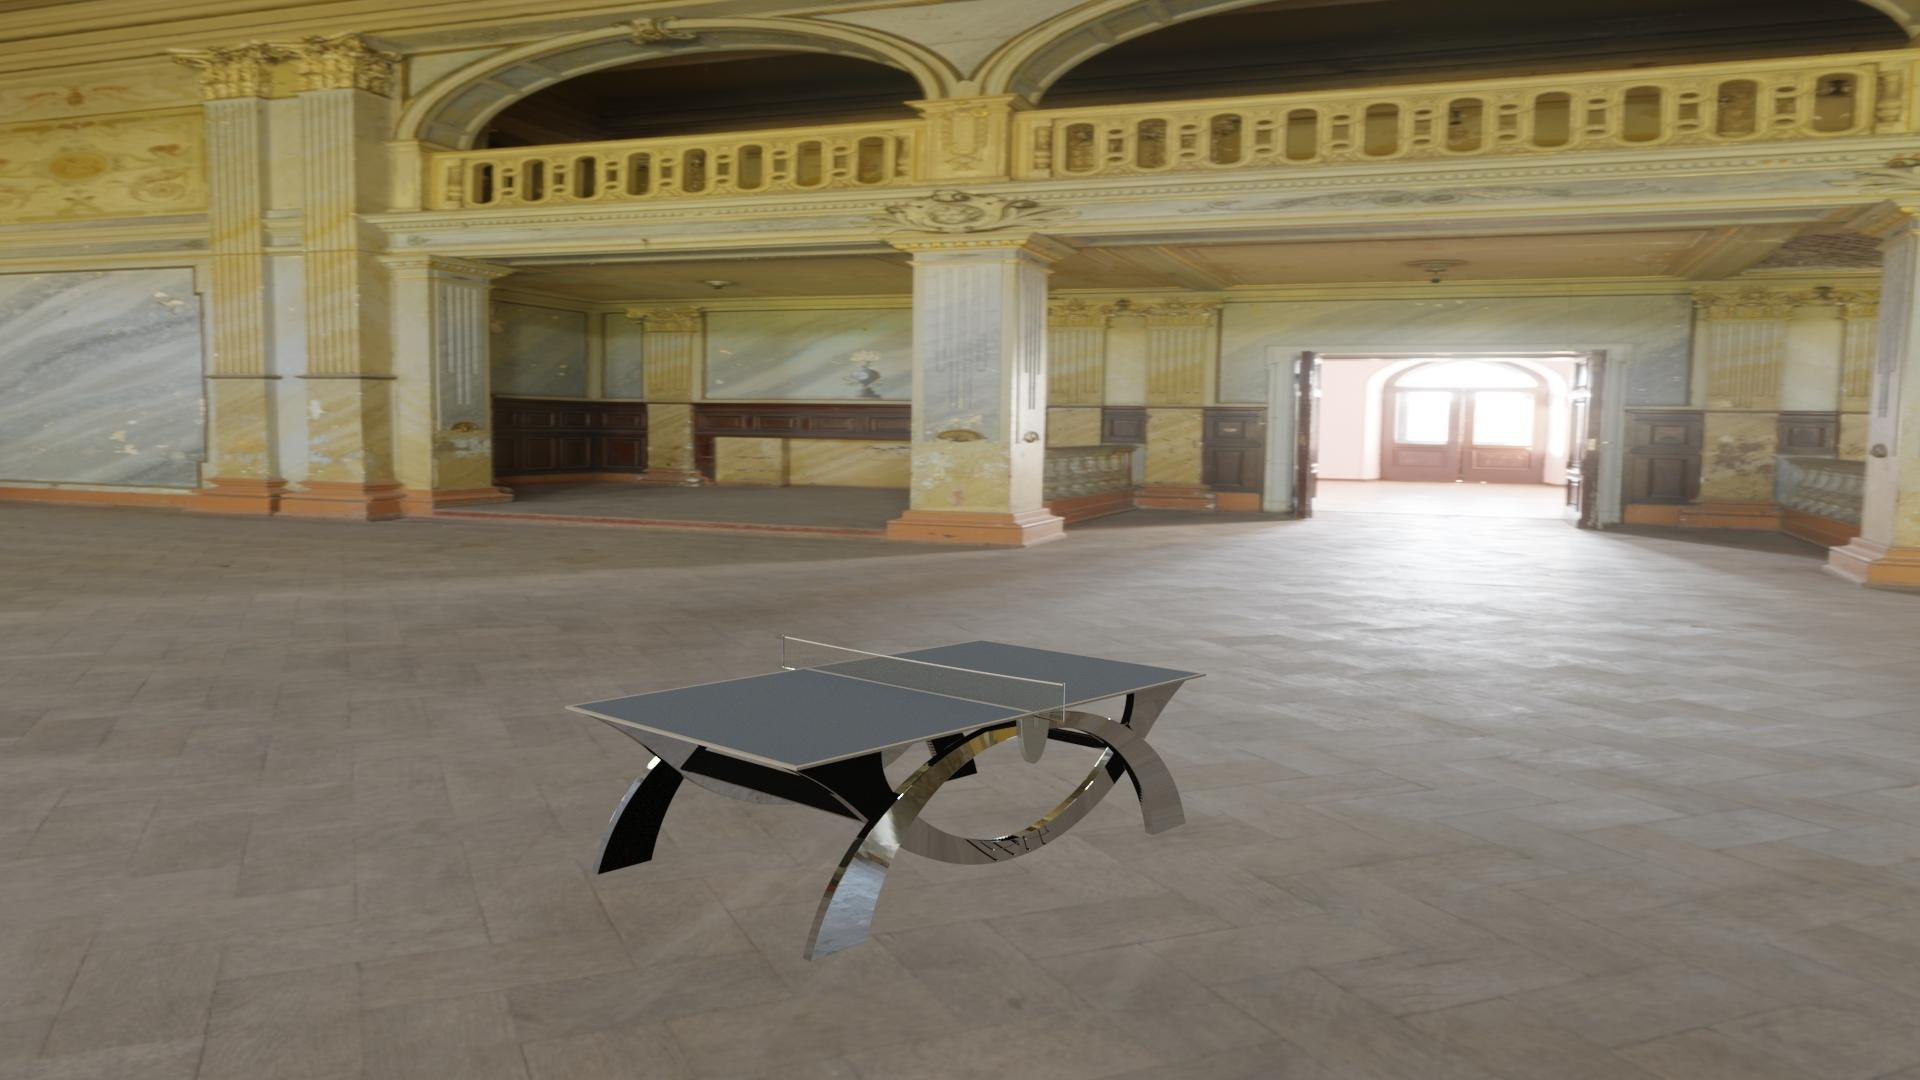table: (571, 641, 1201, 766)
